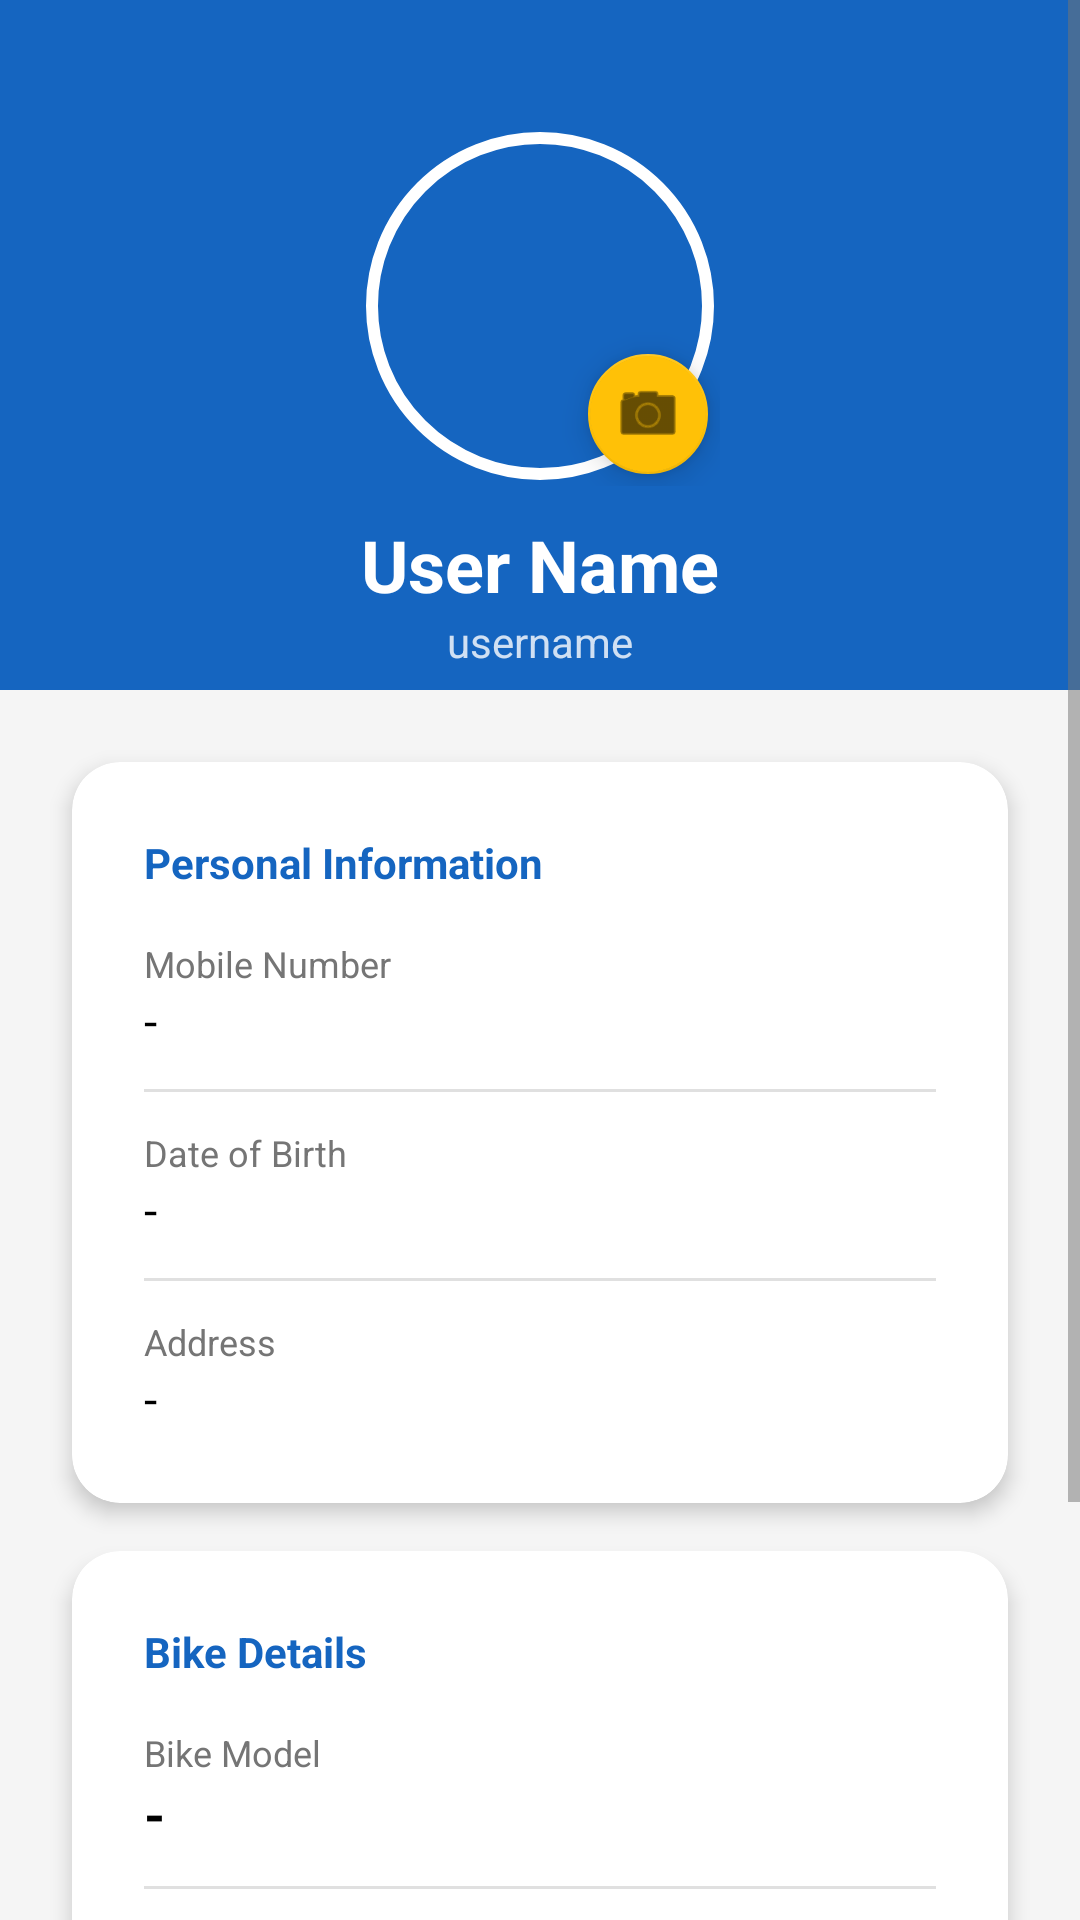

Icon bounding boxes for this 1080w x 1920h phone screenshot, format (x1, y1, x2, y2):
Edit profile photo: (576, 342, 710, 476)
